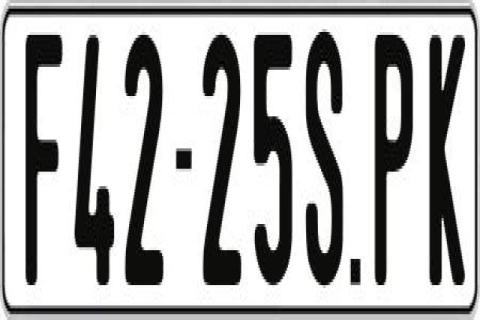0: (202, 35, 246, 299), (253, 29, 295, 285), (124, 29, 165, 288), (71, 32, 111, 285)
F: (23, 26, 65, 291)
K: (427, 35, 458, 303)
P: (374, 32, 412, 296)
S: (304, 24, 342, 294)
